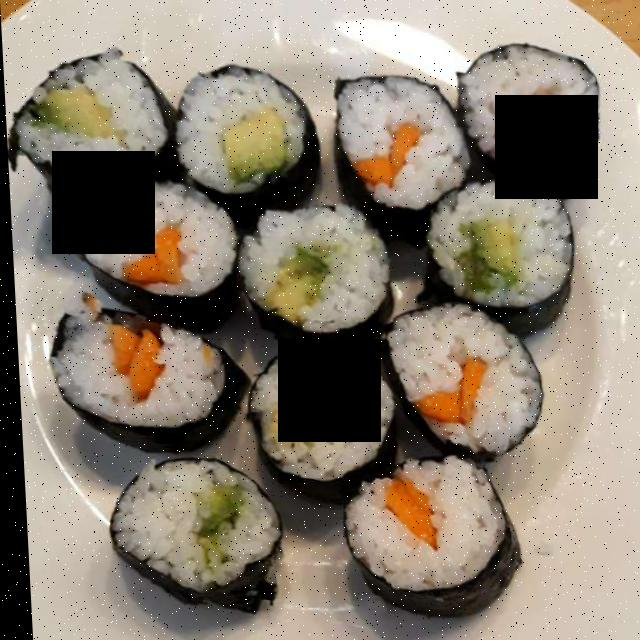sushi: (23, 49, 595, 605)
